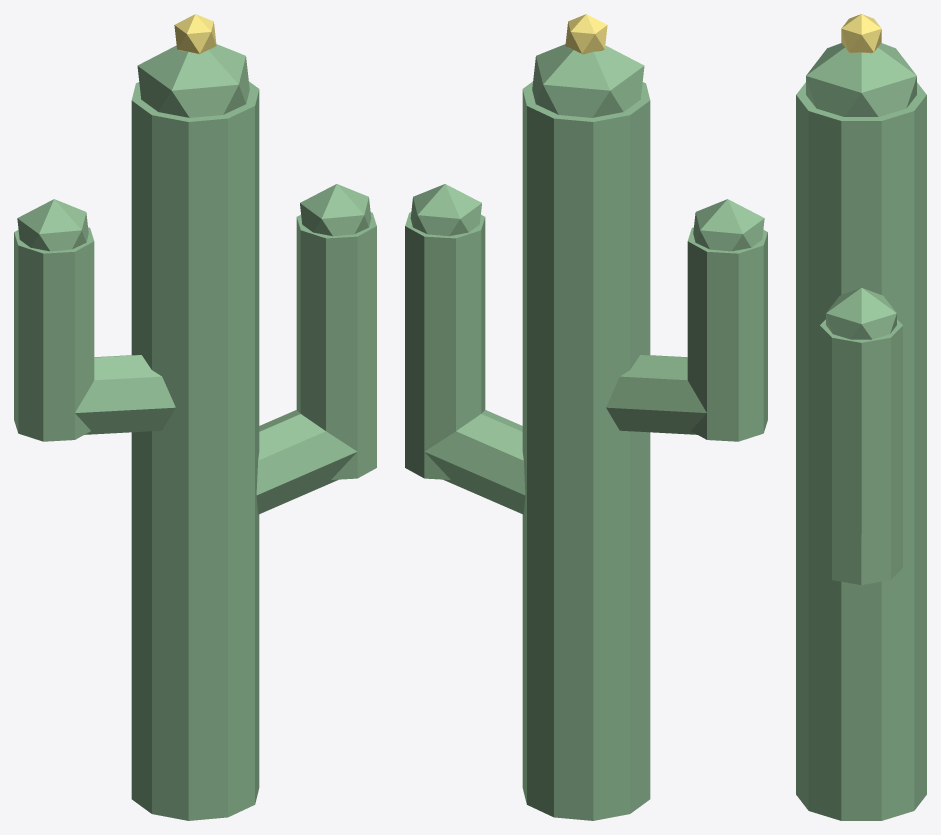
File: Cactus.fbx
3 views of the same model, side by side, from view 1: azimuth 30°, elevation 25°; view 2: azimuth 150°, elevation 25°; view 3: azimuth 270°, elevation 25° (orthographic).
Visible parts, largest first — view 1: Cactus_Mesh; view 2: Cactus_Mesh; view 3: Cactus_Mesh.
Boxes of the visible parts, x1,y1,x2,y2 form: Cactus_Mesh: (14, 14, 376, 820); Cactus_Mesh: (405, 14, 767, 820); Cactus_Mesh: (796, 14, 926, 820).
Bounding box in the file's own units: 1.38 × 2.9 × 0.44.
